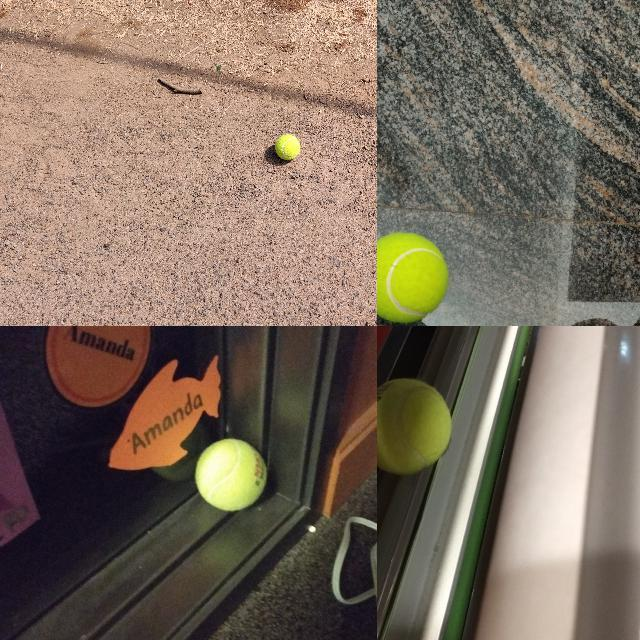tennis-ball: (377, 377, 453, 476), (377, 231, 449, 324), (194, 438, 268, 512), (274, 134, 300, 160)
